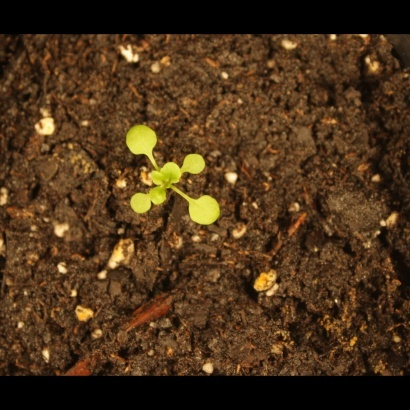leaf: (125, 123, 161, 160), (188, 194, 222, 227), (182, 151, 208, 176), (128, 190, 152, 215), (146, 185, 169, 208), (161, 162, 184, 185), (144, 166, 167, 189)
